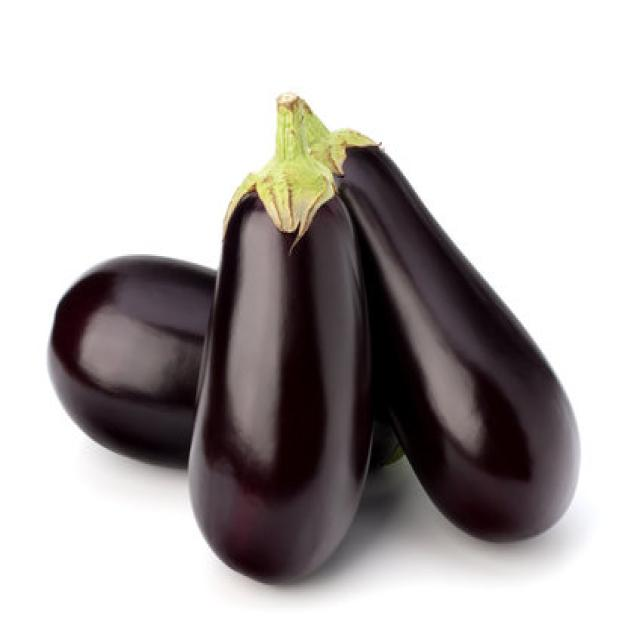Eggplant: (316, 119, 581, 542), (186, 91, 374, 583), (45, 250, 403, 474)
